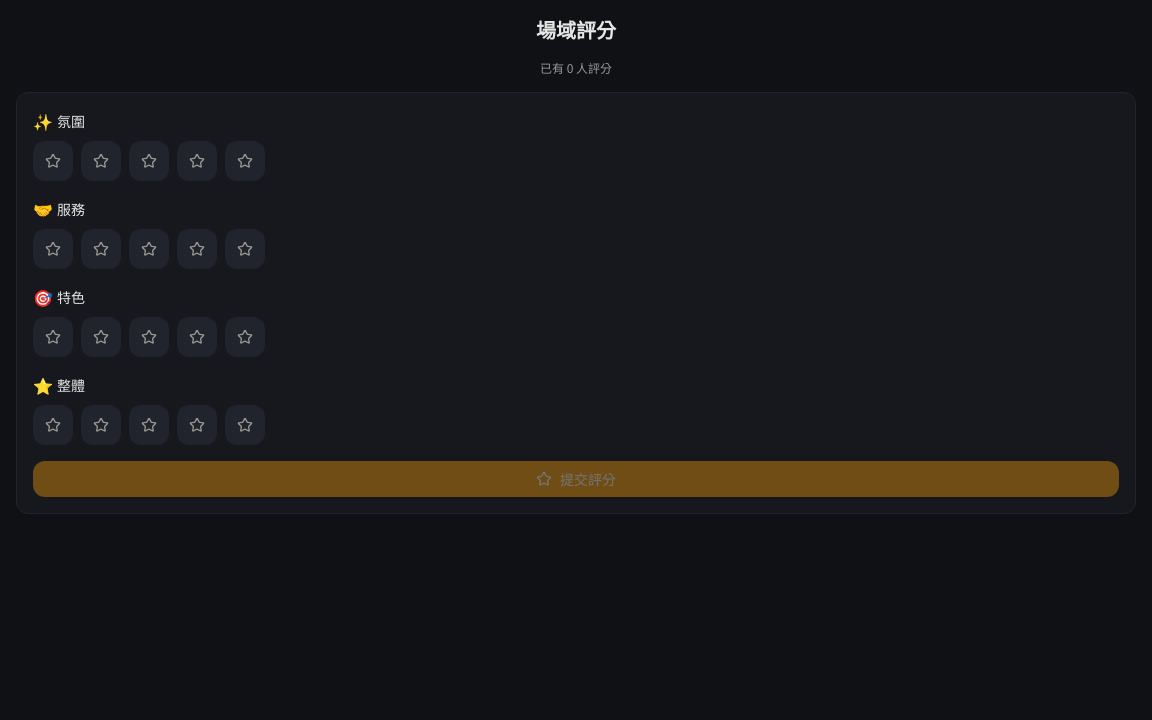
Scenario: VenueRating › 四個維度都評分後啟用提交按鈕
Click the button with test id "vrt-star-ambience-4".
click(197, 161)  # box [177,141,217,181]
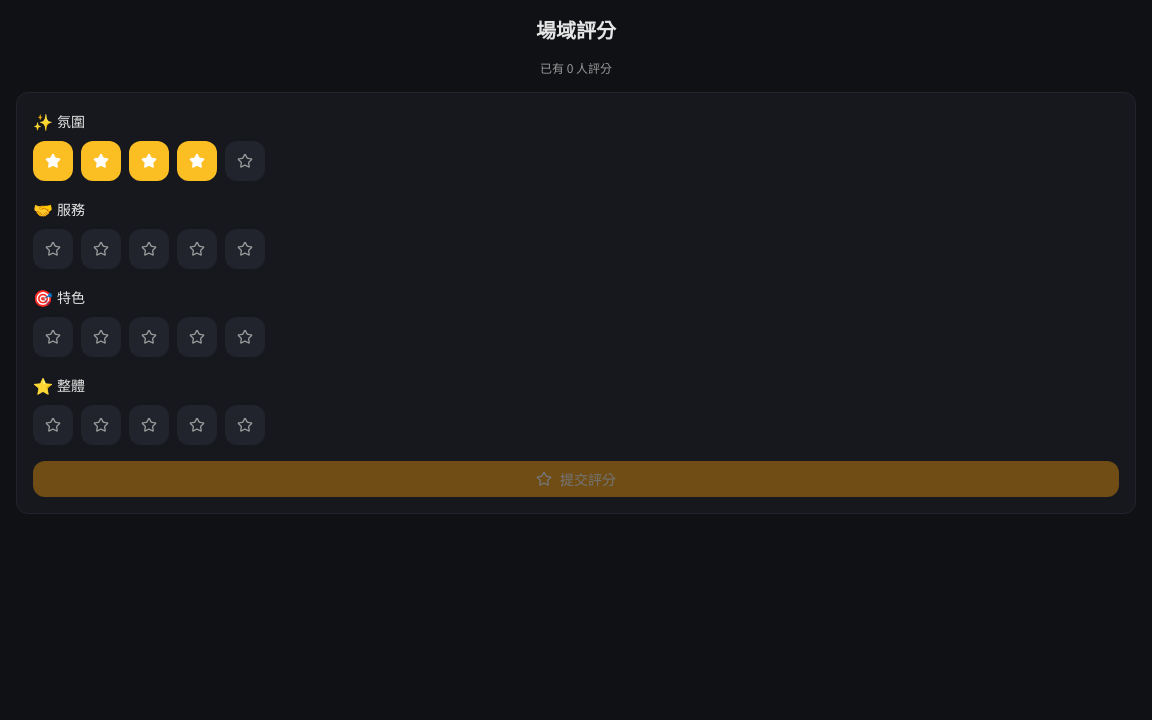
Click the button with test id "vrt-star-service-5".
click(245, 249)  # box [225,229,265,269]
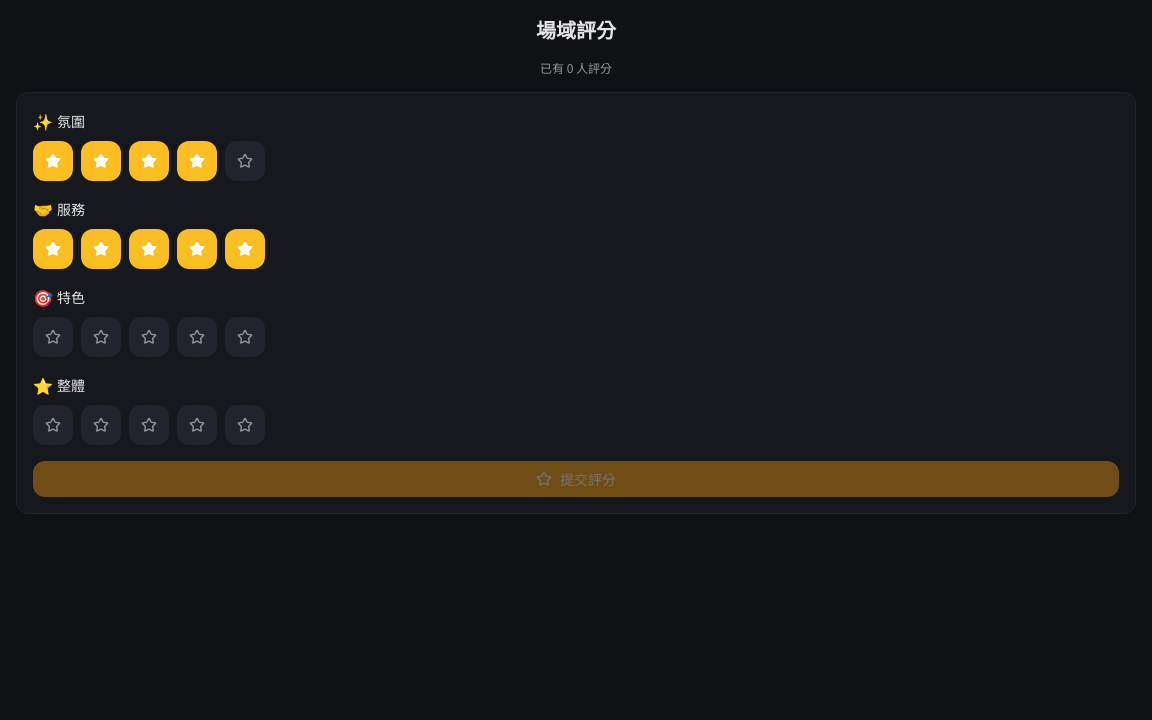
Click the button with test id "vrt-star-character-3".
click(149, 337)  # box [129,317,169,357]
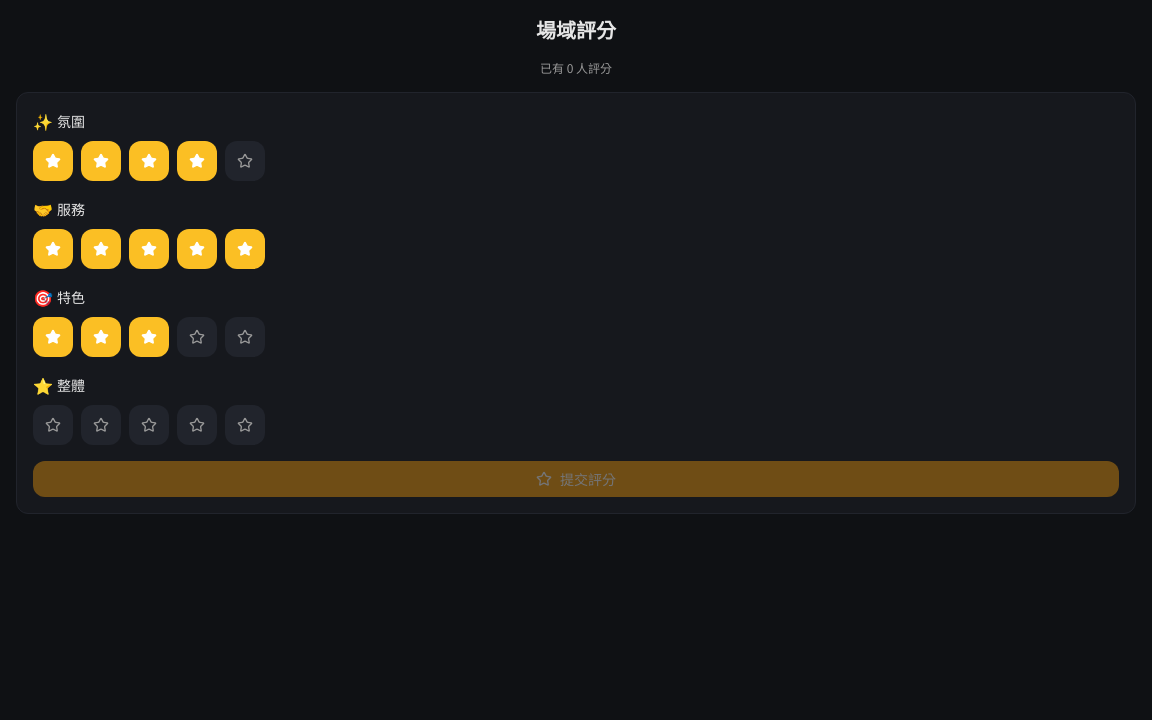
Click the button with test id "vrt-star-overall-4".
click(197, 425)  # box [177,405,217,445]
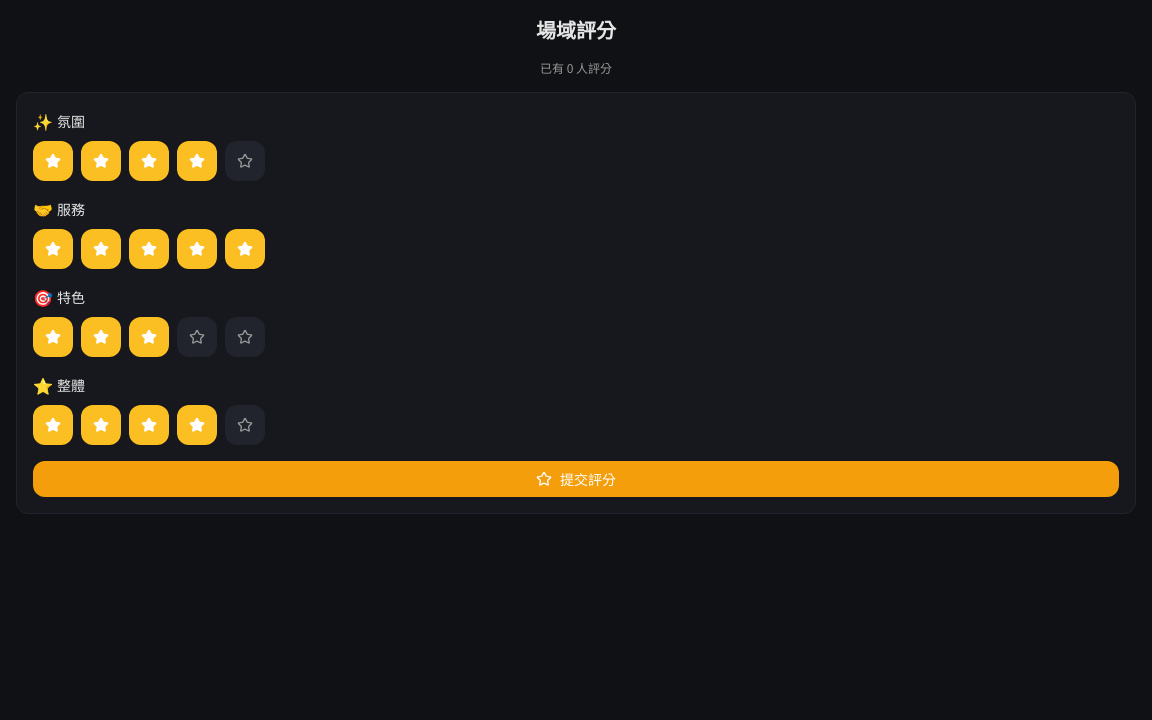
Result: the button with test id "vrt-submit-btn" is enabled at [33,461,1119,497]
